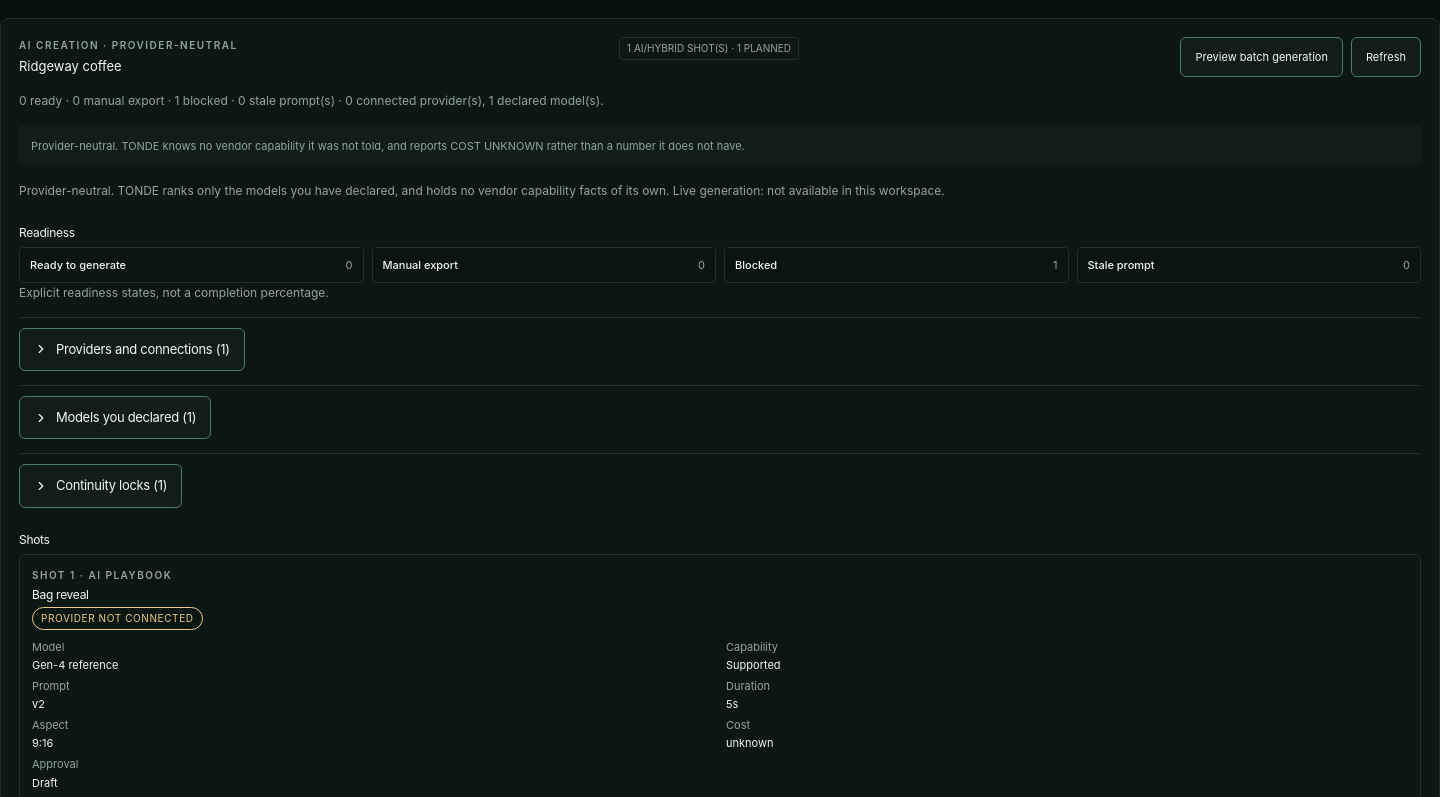
Test: AI Creation surface › shows locked continuity with what may vary and what never changes
Step 1. Click the button "Continuity locks (1)" → [101, 486], box left=19, top=464, right=182, bottom=508
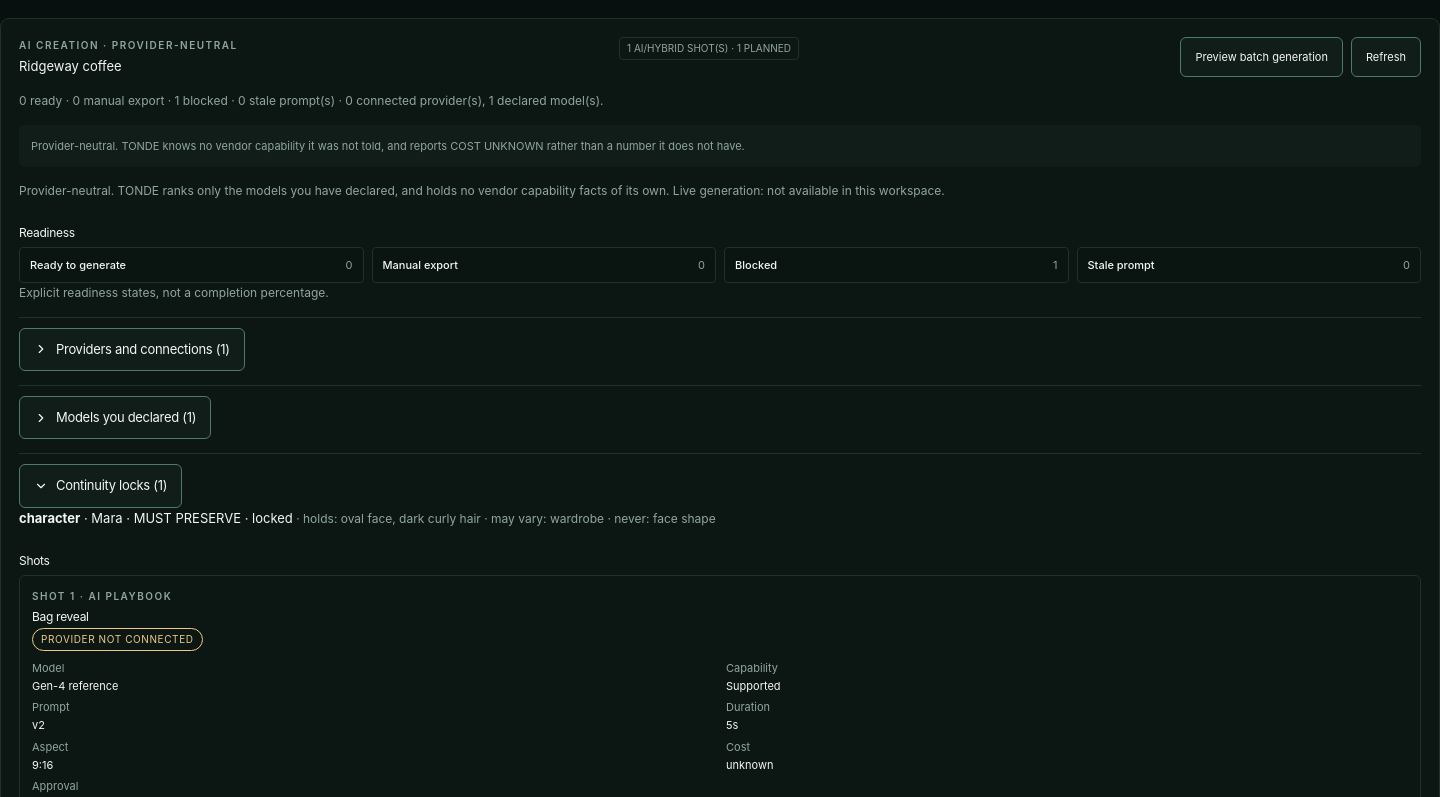
expect the list item "MUST PRESERVE" is shown: met, box left=134, top=510, right=241, bottom=526
expect the text "· may vary: wardrobe" is shown: met, box left=481, top=511, right=604, bottom=526
expect the text "· never: face shape" is shown: met, box left=604, top=511, right=716, bottom=526
